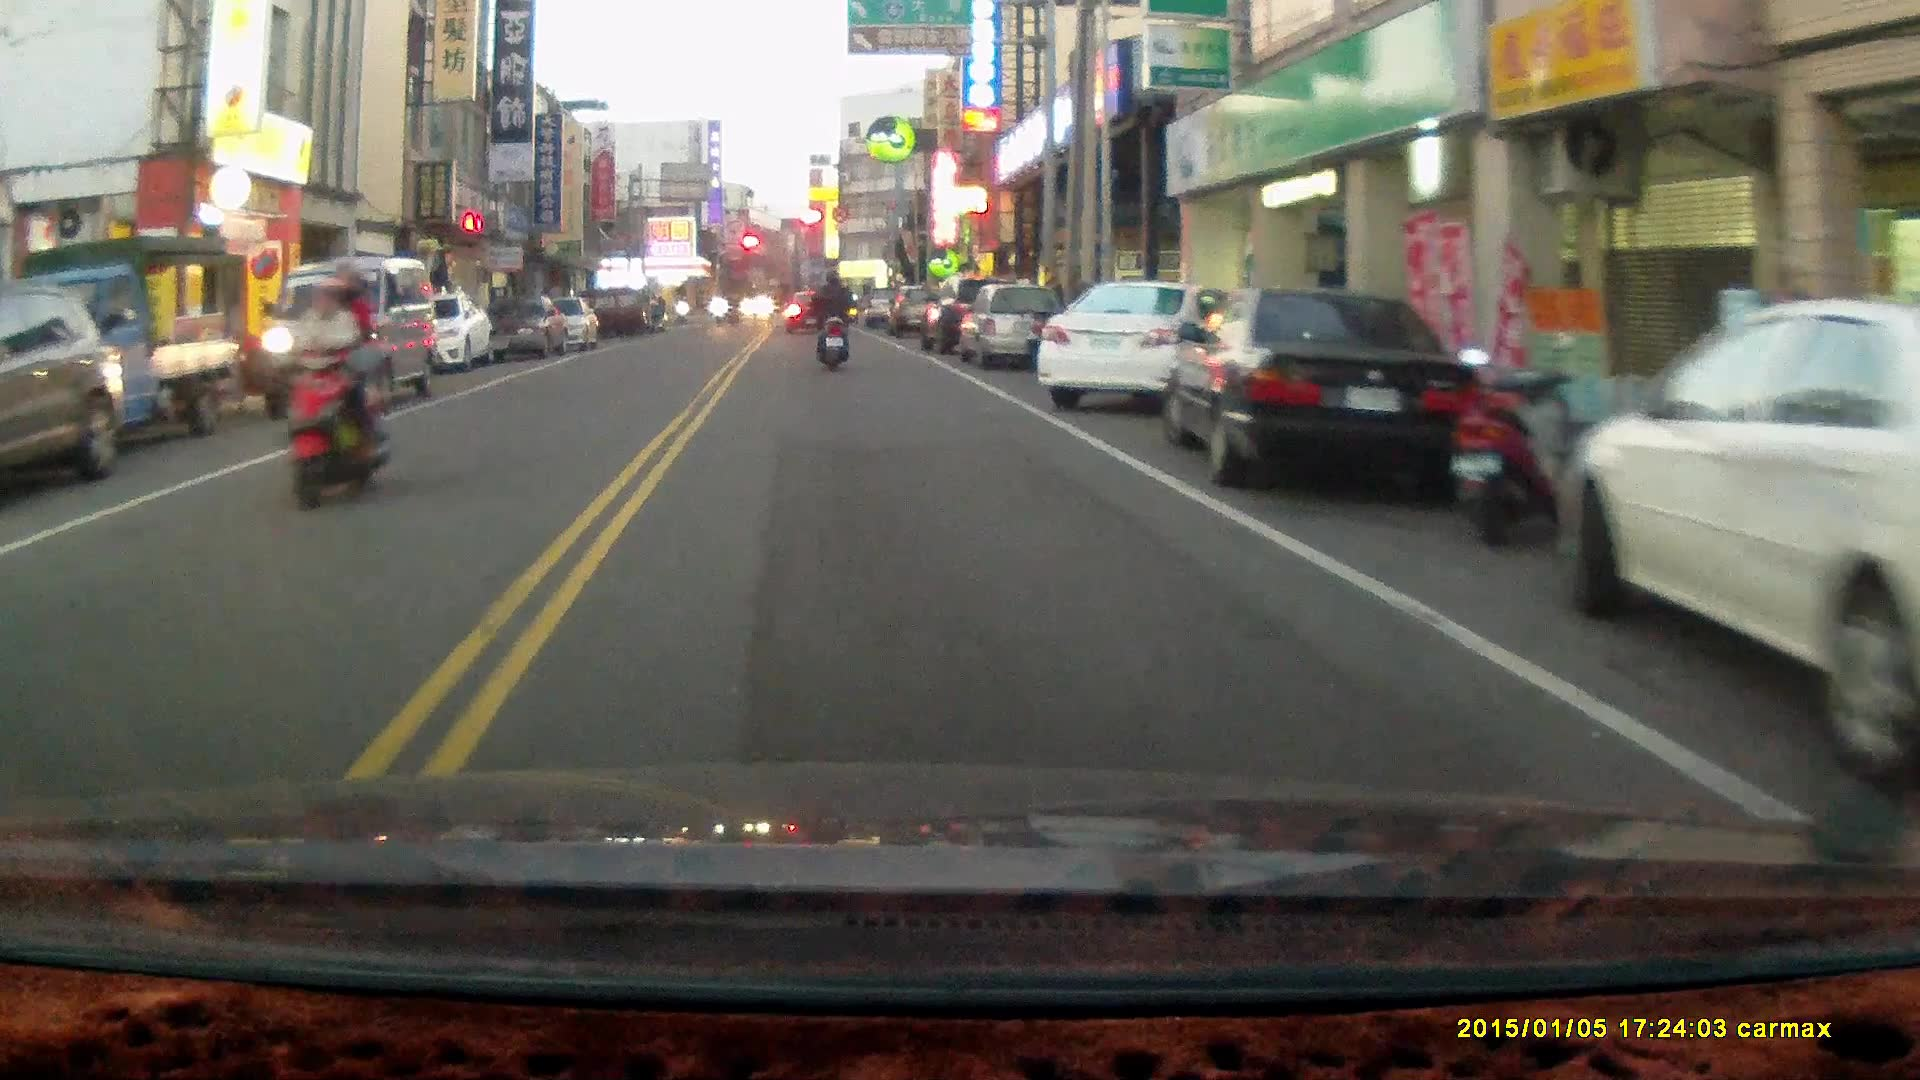rider: (276, 255, 395, 511), (808, 266, 855, 373)
vehicle: (1571, 298, 1920, 804), (1161, 285, 1485, 491), (17, 238, 260, 476), (1, 284, 133, 509), (1036, 274, 1235, 412), (264, 259, 436, 411), (956, 283, 1071, 374), (372, 297, 496, 373)
